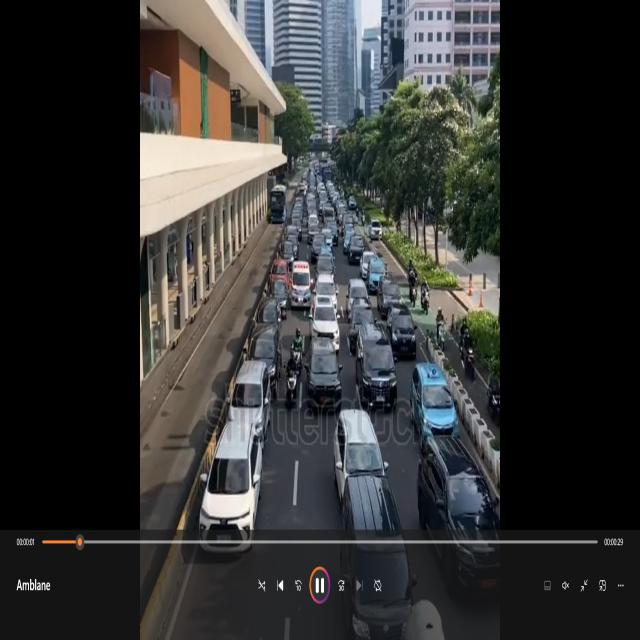Ambulance: (290, 258, 310, 313)
